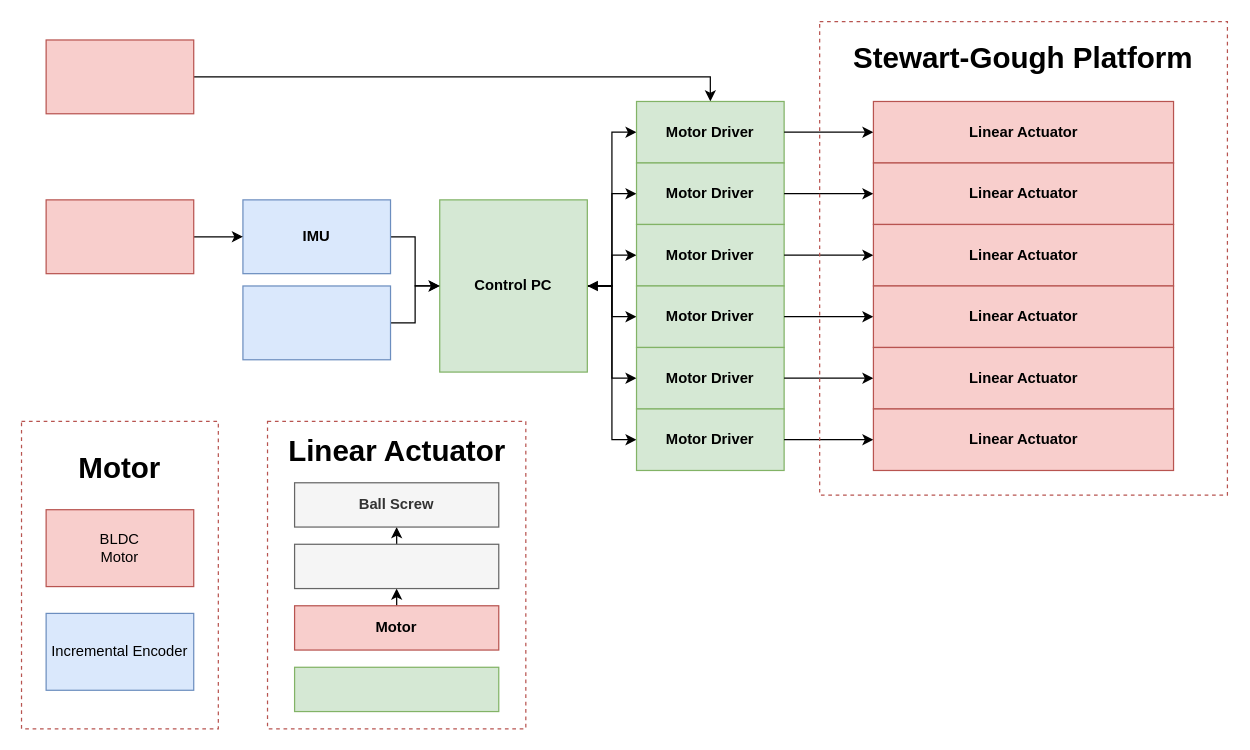
The diagram is 1250 pixels wide and 750 high, and some of its shapes have lost their labels. Each missing label, with the centre of its shape:
"48V Power Supply" goes at (x=119, y=76).
"5V Power Supply" goes at (x=119, y=236).
"Gear Box" goes at (x=396, y=566).
"JoyStick" goes at (x=316, y=322).
"Photo Interrupter" goes at (x=396, y=689).
